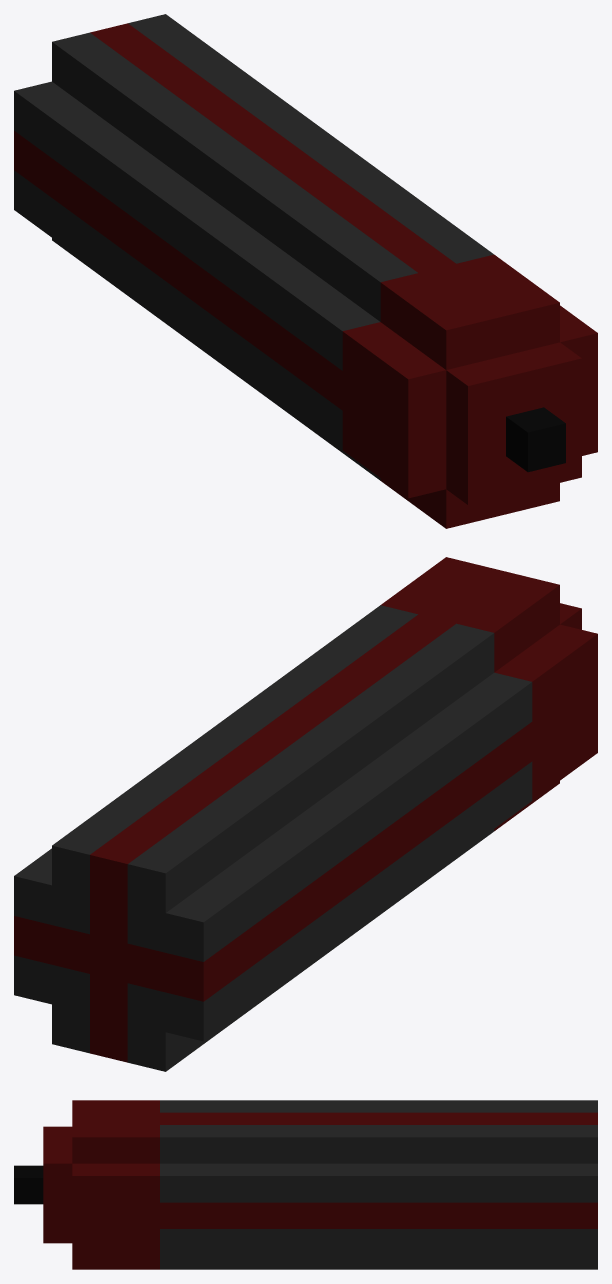
File: bullet1.obj
3 renders of one model, top to bottom at view 1: azimuth 30°, elevation 25°; view 2: azimuth 150°, elevation 25°; view 3: azimuth 270°, elevation 25°, orthographic. The views are drawn at different scales.
Bounding box in the file's own units: 5 × 5 × 20.
Materials: 1 (1 with a texture image).
